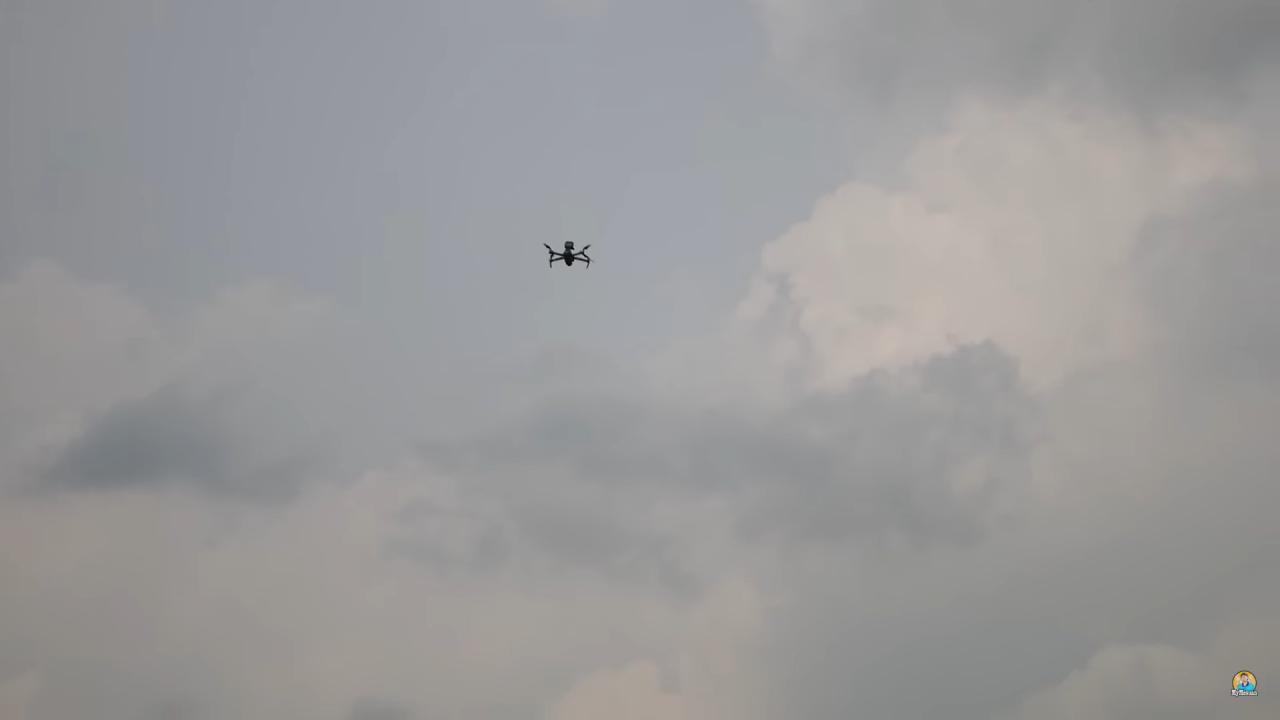Drone: (528, 226, 608, 282)
